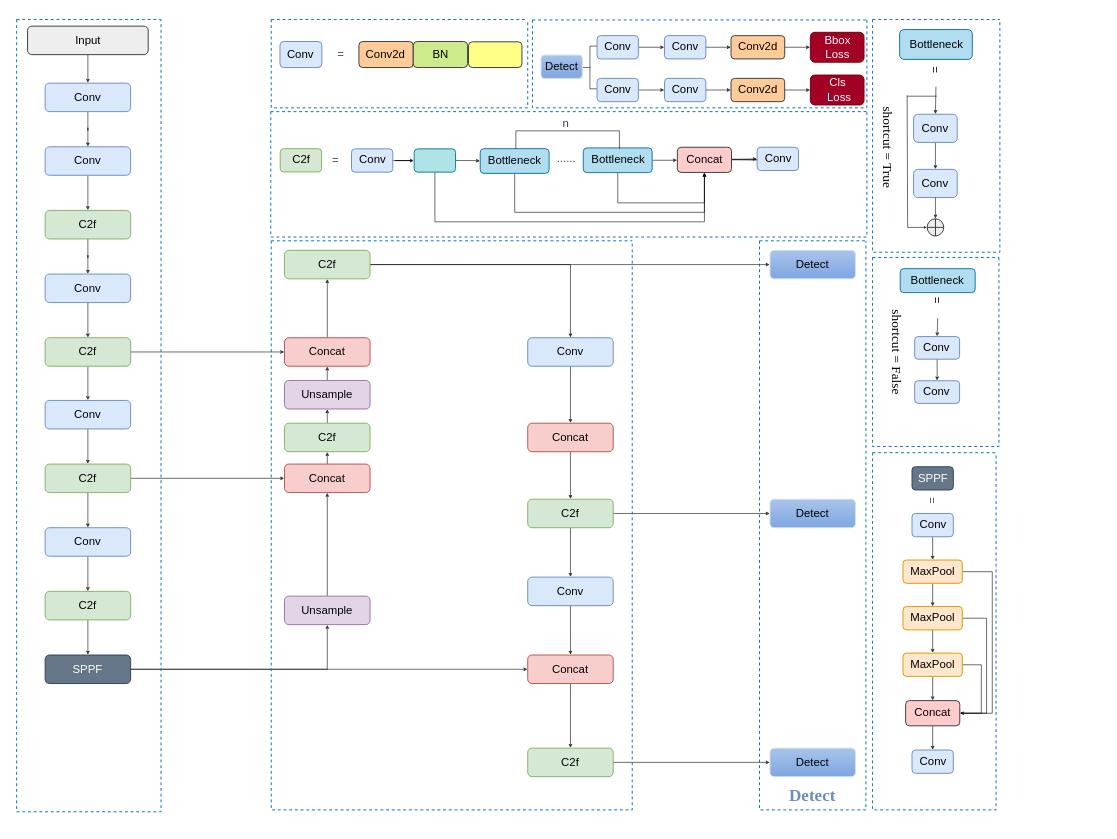
The diagram is 1117 pixels wide and 839 high, and some of its shapes have lost their labels. The shapes that lost their labels are listed below. From the top down, each one's box as (x1, y1, x2, y2) in pixels, then its label:
(468, 41, 522, 68): SiLU
(413, 148, 456, 172): Split
(16, 19, 161, 812): Backbone
(270, 240, 632, 810): Neck
